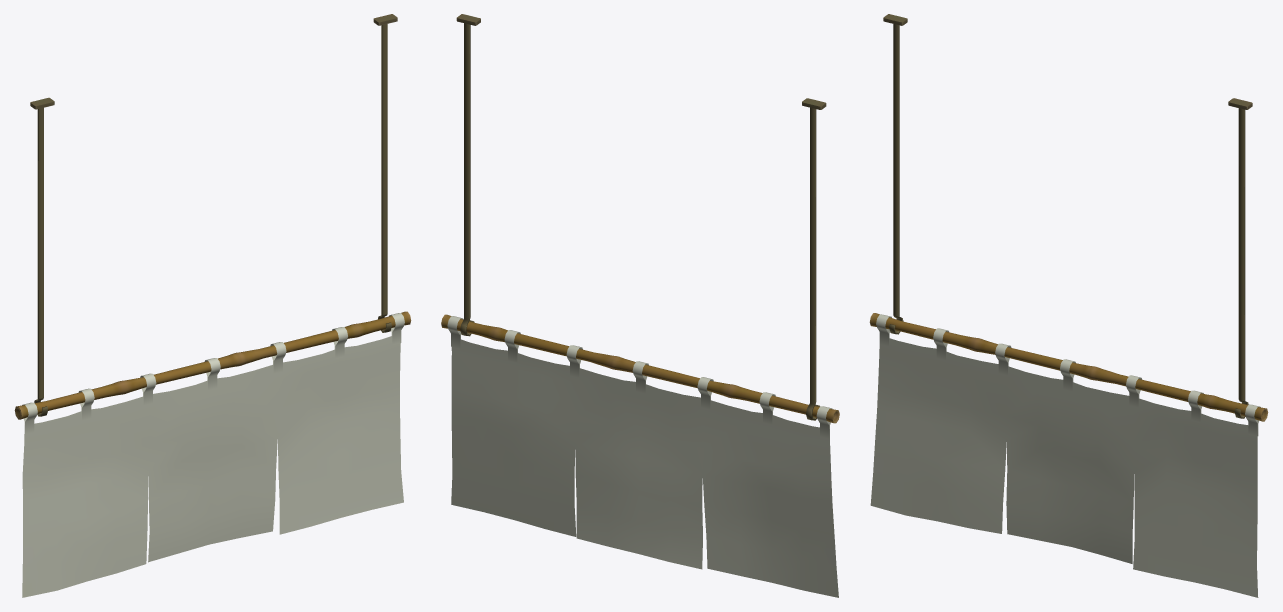
3 renders of one model, left to right at view 1: azimuth 30°, elevation 25°; view 2: azimuth 150°, elevation 25°; view 3: azimuth 330°, elevation 25°, orthographic.
Bounding box in the file's own units: 20 × 24.07 × 0.8478.
2 materials, 2 textured.
